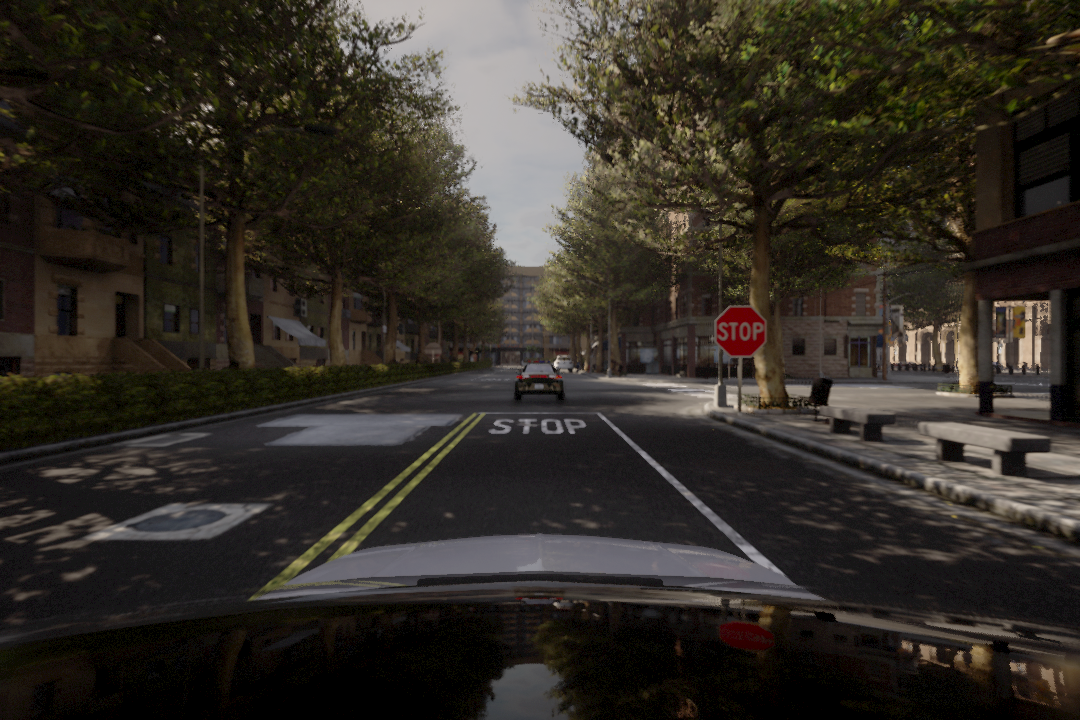TrafficSign_stop: (710, 306, 767, 359)
